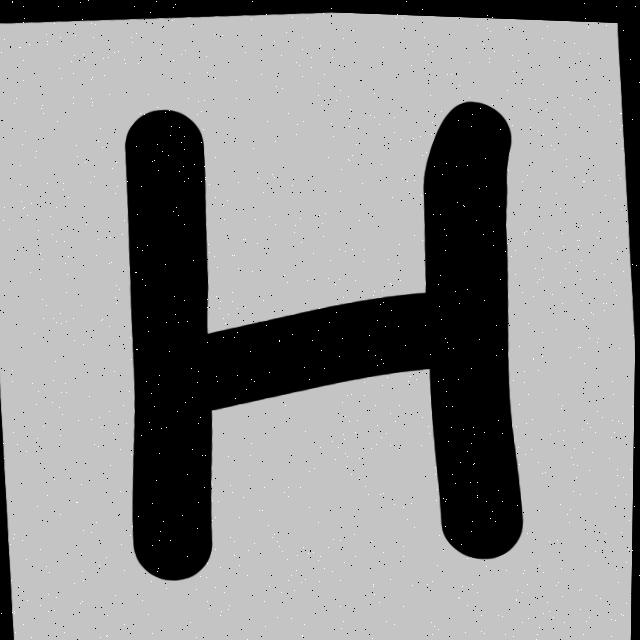H: (126, 99, 523, 577)
